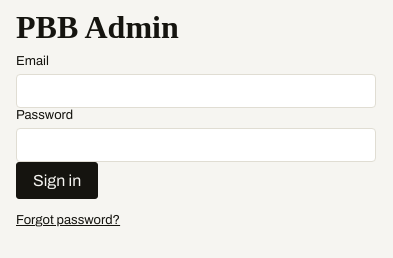
Login › surfaces the real server error message (e.g. rate limiting) instead of masking it
The width and height of the screenshot is (393, 258).
Type "x@y.co" into the field labelled "Email". click: coordinates (196, 91)
box: [16,74,376,108]
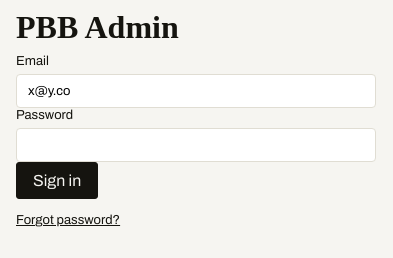
Type "no" into the password field labelled "Password". click: coordinates (196, 145)
box: [16,128,376,162]
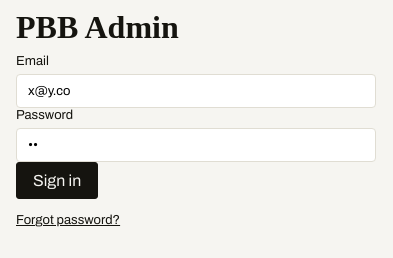
Click the button "Sign in". click: coordinates (57, 181)
box: [16,162,98,199]
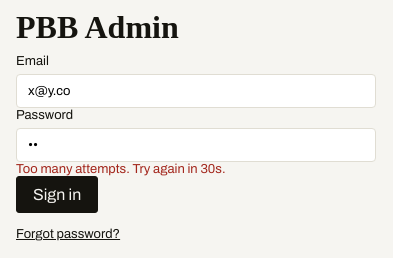
Expected: the message shows "Too many attempts", [16,162,226,176]
